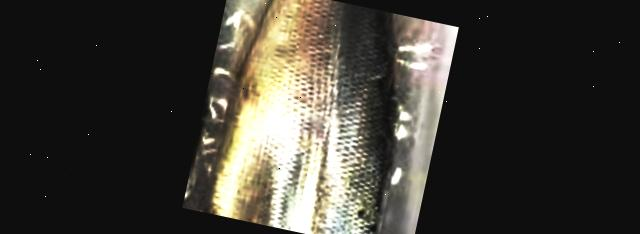Healthy Fish: (203, 0, 396, 234)
